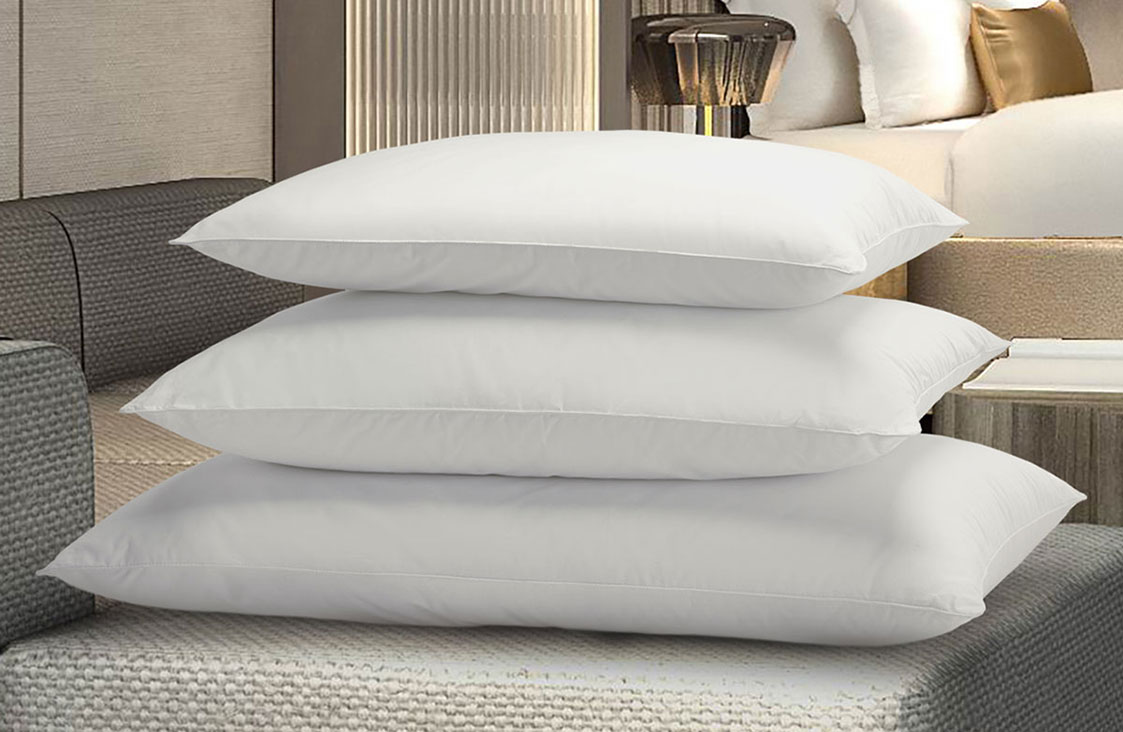bantal: (39, 454, 1089, 658), (109, 299, 1028, 478), (183, 119, 966, 321), (842, 1, 993, 119), (978, 4, 1099, 104)
